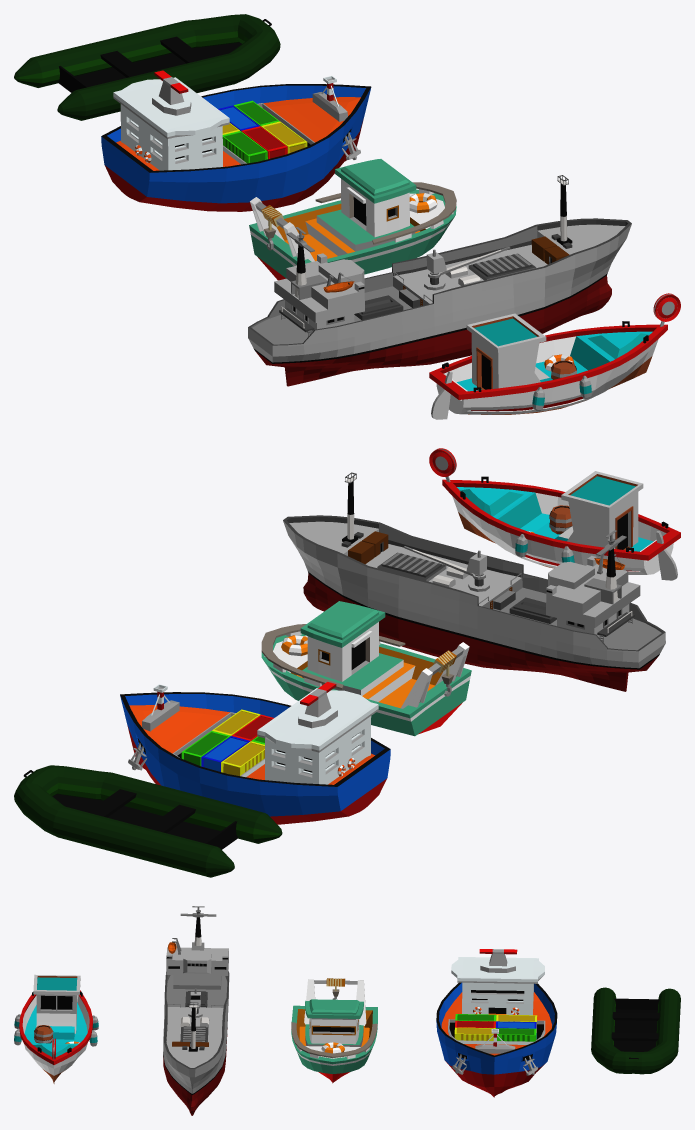
File: newBoats.glb
3 views of the same model, one above another, from view 1: azimuth 30°, elevation 25°; view 2: azimuth 150°, elevation 25°; view 3: azimuth 270°, elevation 25° (orthographic). The views are drawn at different scales.
Visible parts, largest first — view 1: big_ship_2_bigship2_texture_0, Cargo_Ship_LowPoly_Cargo_ship_Palette_Material_0, fishingboat_greek_Greek_fishingboat_textures_0, resin_boat_resin_boat_0, FishingBoat_FishingBoat_Texture_0; view 2: big_ship_2_bigship2_texture_0, Cargo_Ship_LowPoly_Cargo_ship_Palette_Material_0, resin_boat_resin_boat_0, fishingboat_greek_Greek_fishingboat_textures_0, FishingBoat_FishingBoat_Texture_0; view 3: Cargo_Ship_LowPoly_Cargo_ship_Palette_Material_0, big_ship_2_bigship2_texture_0, resin_boat_resin_boat_0, FishingBoat_FishingBoat_Texture_0, fishingboat_greek_Greek_fishingboat_textures_0.
Part boxes in pixels (x1=…): big_ship_2_bigship2_texture_0: x1=248, y1=175, x2=631, y2=386; Cargo_Ship_LowPoly_Cargo_ship_Palette_Material_0: x1=101, y1=70, x2=371, y2=211; fishingboat_greek_Greek_fishingboat_textures_0: x1=429, y1=293, x2=680, y2=419; resin_boat_resin_boat_0: x1=14, y1=14, x2=280, y2=120; FishingBoat_FishingBoat_Texture_0: x1=249, y1=159, x2=456, y2=280; big_ship_2_bigship2_texture_0: x1=283, y1=472, x2=665, y2=691; Cargo_Ship_LowPoly_Cargo_ship_Palette_Material_0: x1=120, y1=682, x2=390, y2=824; resin_boat_resin_boat_0: x1=14, y1=765, x2=282, y2=877; fishingboat_greek_Greek_fishingboat_textures_0: x1=429, y1=448, x2=680, y2=580; FishingBoat_FishingBoat_Texture_0: x1=261, y1=601, x2=471, y2=736; Cargo_Ship_LowPoly_Cargo_ship_Palette_Material_0: x1=436, y1=949, x2=557, y2=1097; big_ship_2_bigship2_texture_0: x1=163, y1=906, x2=229, y2=1115; resin_boat_resin_boat_0: x1=591, y1=987, x2=680, y2=1074; FishingBoat_FishingBoat_Texture_0: x1=291, y1=978, x2=377, y2=1083; fishingboat_greek_Greek_fishingboat_textures_0: x1=14, y1=974, x2=98, y2=1083.
Size of the model in its own units: 13.08 by 5.4 by 28.77.
5 materials, 5 textured.
